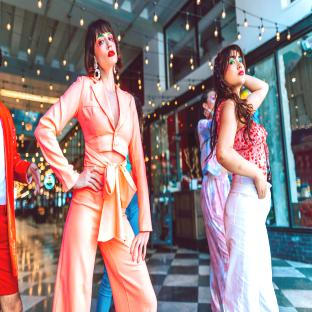Human: (35, 19, 157, 312), (211, 45, 279, 312), (0, 102, 41, 312)
